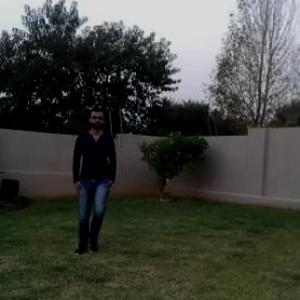follow: (74, 109, 113, 244)
